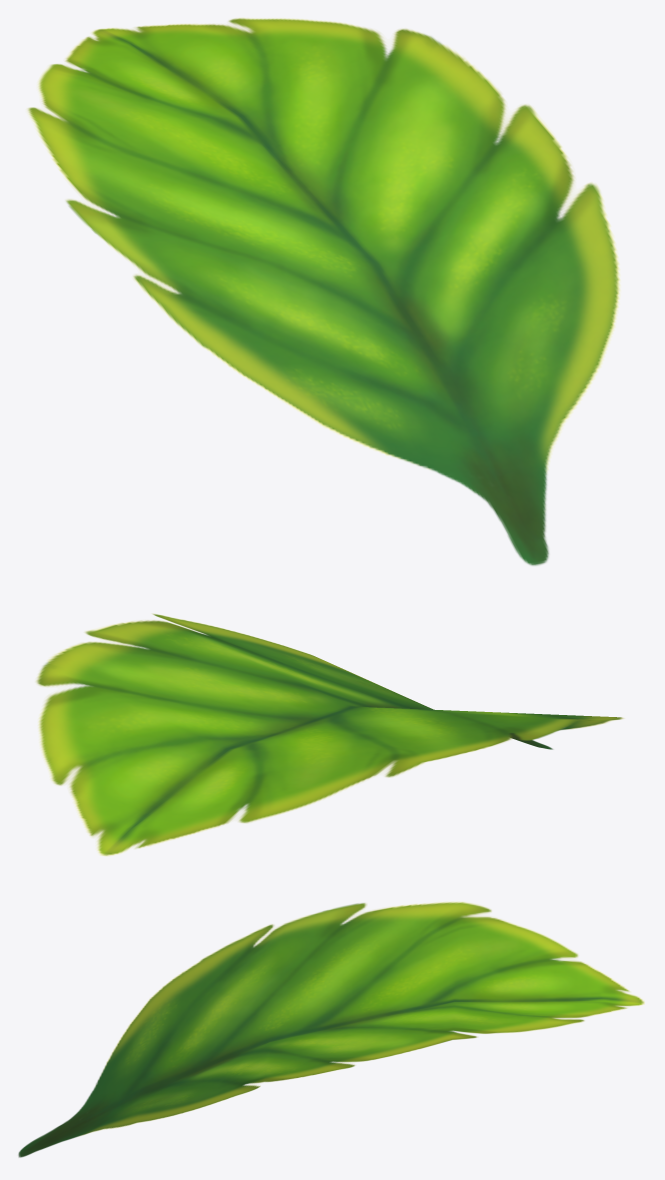
File: PLeaf3.glb
The picture shows the model from 3 angles, top to bottom: view 1: azimuth 30°, elevation 25°; view 2: azimuth 150°, elevation 25°; view 3: azimuth 270°, elevation 25°; orthographic projection. The views are drawn at different scales.
Visible parts, largest first — view 1: PLeaf3; view 2: PLeaf3; view 3: PLeaf3.
Boxes of the visible parts, x1,y1,x2,y2 form: PLeaf3: [27, 18, 619, 566]; PLeaf3: [36, 613, 623, 855]; PLeaf3: [18, 902, 644, 1157].
Size of the model in its own units: 1.13 by 0.5796 by 1.75.
1 material, 1 textured.
